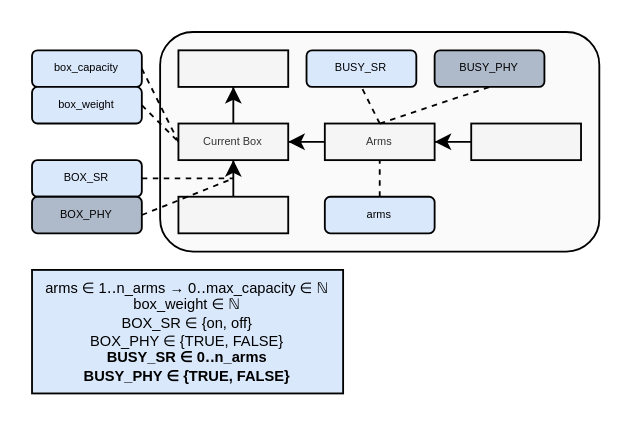
Some shapes in this 631 by 426 pixel diagram are drawn without their labels. The box of each missing label's shape, as (x1, y1, x2, y2) in pixels:
Conveyor Belt: (469, 122, 581, 160)
Empty Boxes: (177, 195, 288, 233)
Full Boxes: (177, 48, 288, 87)
